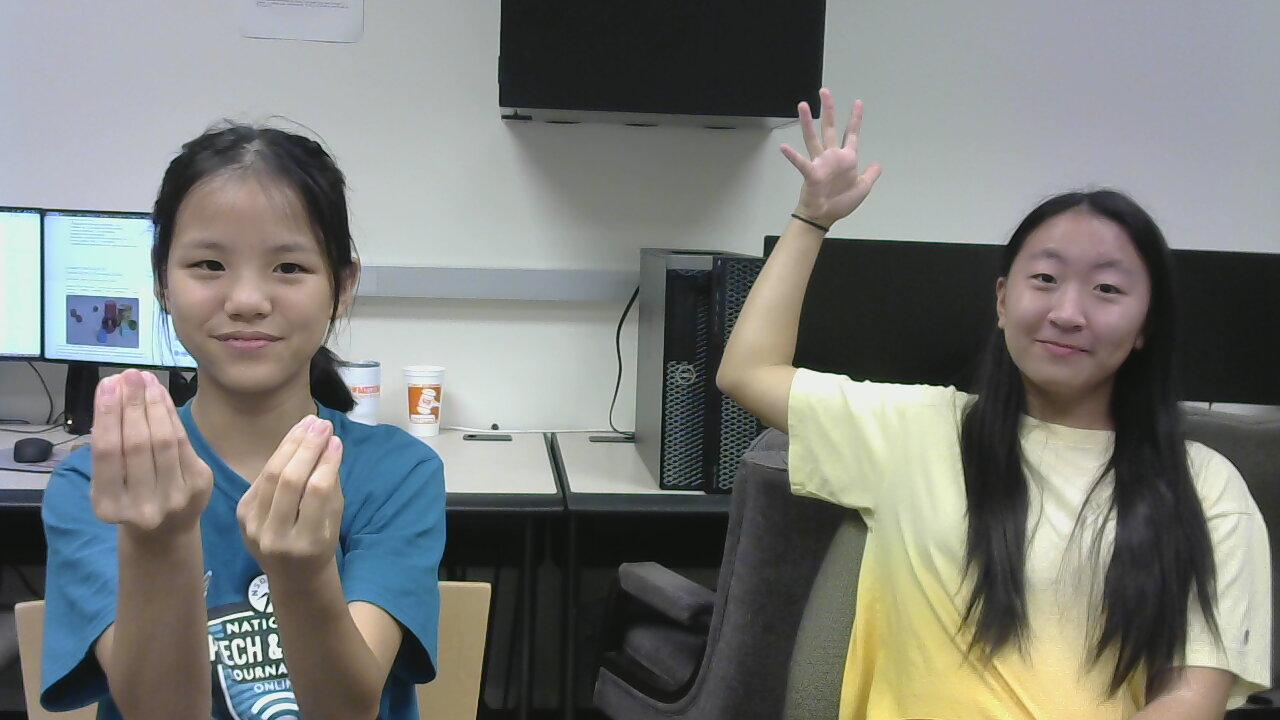hands: (73, 364, 232, 544), (236, 412, 372, 588), (773, 87, 900, 221)
